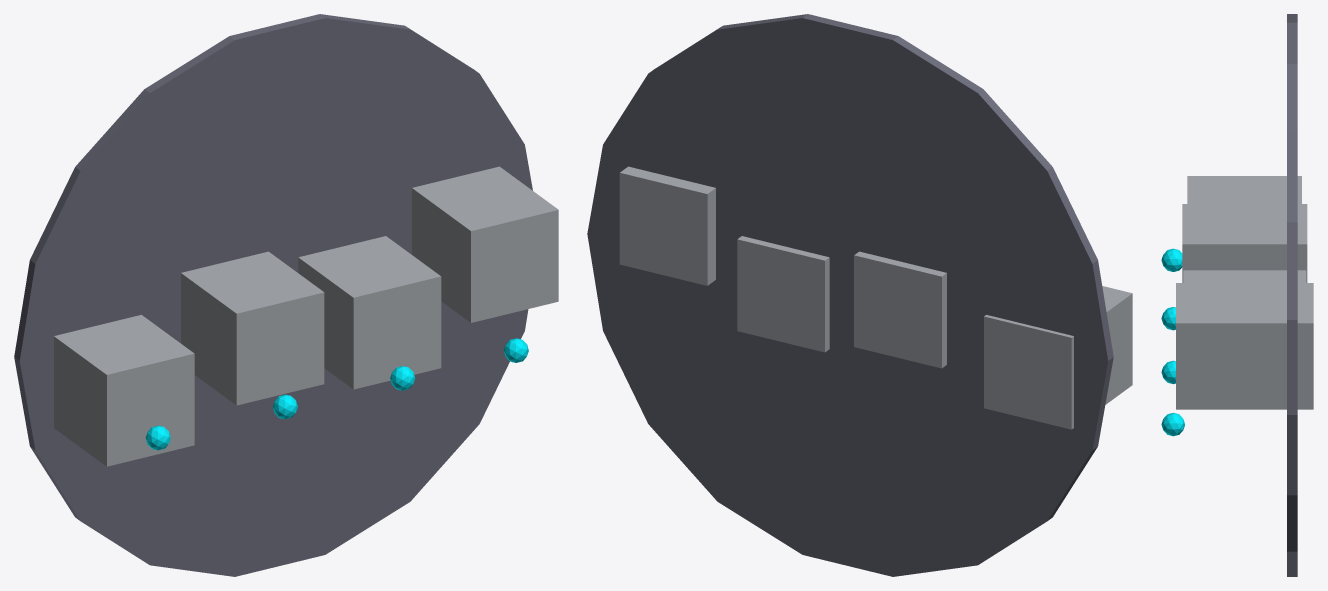
The model's file is 02_local_prop_cluster.glb.
3 renders of one model, left to right at view 1: azimuth 30°, elevation 25°; view 2: azimuth 150°, elevation 25°; view 3: azimuth 270°, elevation 25°, orthographic. The views are drawn at different scales.
Visible parts, largest first — view 1: scatter_base, tech_crate_3, tech_crate_1, tech_crate_0, tech_crate_2; view 2: scatter_base, tech_crate_0, tech_crate_3, tech_crate_1, tech_crate_2; view 3: tech_crate_3, tech_crate_1, scatter_base, tech_crate_0, tech_crate_2, status_light_3, status_light_0, status_light_1, status_light_2.
Boxes of the visible parts, left/top/right/bottom form: scatter_base: left=14, top=14, right=532, bottom=576; tech_crate_3: left=412, top=166, right=558, bottom=322; tech_crate_1: left=181, top=251, right=324, bottom=405; tech_crate_0: left=54, top=315, right=194, bottom=466; tech_crate_2: left=298, top=236, right=441, bottom=389; scatter_base: left=587, top=14, right=1113, bottom=576; tech_crate_0: left=984, top=286, right=1132, bottom=429; tech_crate_3: left=619, top=166, right=715, bottom=285; tech_crate_1: left=854, top=251, right=946, bottom=368; tech_crate_2: left=737, top=236, right=829, bottom=352; tech_crate_3: left=1176, top=283, right=1313, bottom=409; tech_crate_1: left=1182, top=204, right=1307, bottom=282; scatter_base: left=1287, top=14, right=1297, bottom=576; tech_crate_0: left=1187, top=176, right=1301, bottom=203; tech_crate_2: left=1183, top=270, right=1306, bottom=282; status_light_3: left=1161, top=412, right=1184, bottom=436; status_light_0: left=1161, top=248, right=1182, bottom=271; status_light_1: left=1161, top=307, right=1175, bottom=330; status_light_2: left=1161, top=360, right=1175, bottom=384.
Bounding box in the file's own units: 1.9 × 1.87 × 0.5114.
